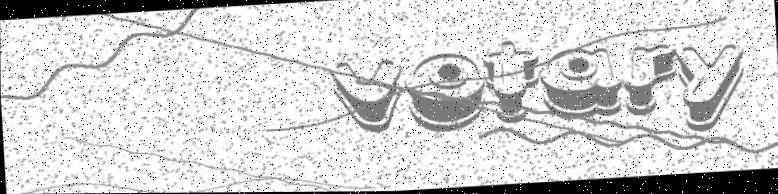a: (535, 46, 621, 121)
o: (400, 47, 488, 138)
r: (621, 44, 683, 125)
t: (477, 40, 545, 133)
v: (319, 52, 409, 150)
y: (671, 38, 750, 132)
